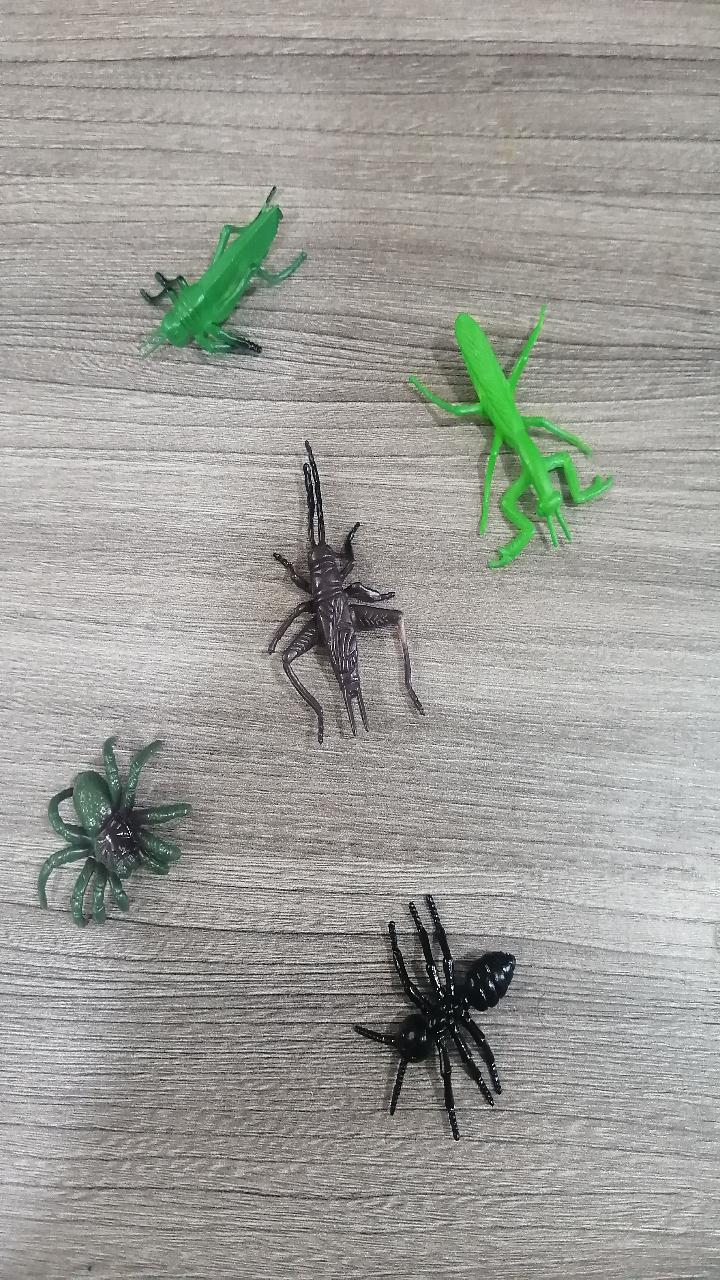intruso: (389, 283, 632, 577), (238, 425, 446, 752), (331, 852, 531, 1159), (8, 702, 203, 939), (111, 169, 315, 395)
